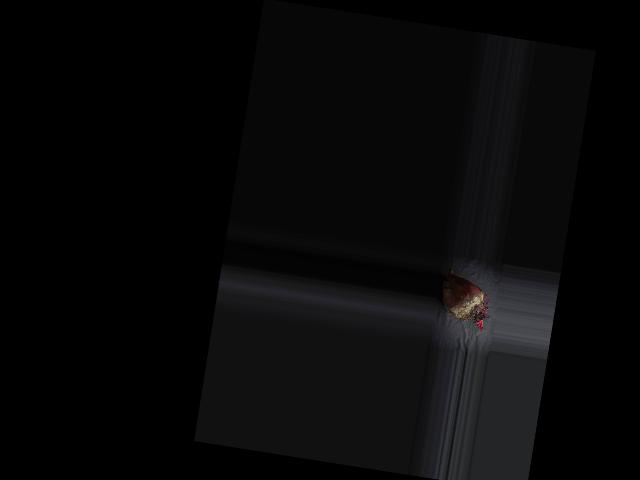beet: (436, 265, 496, 332)
